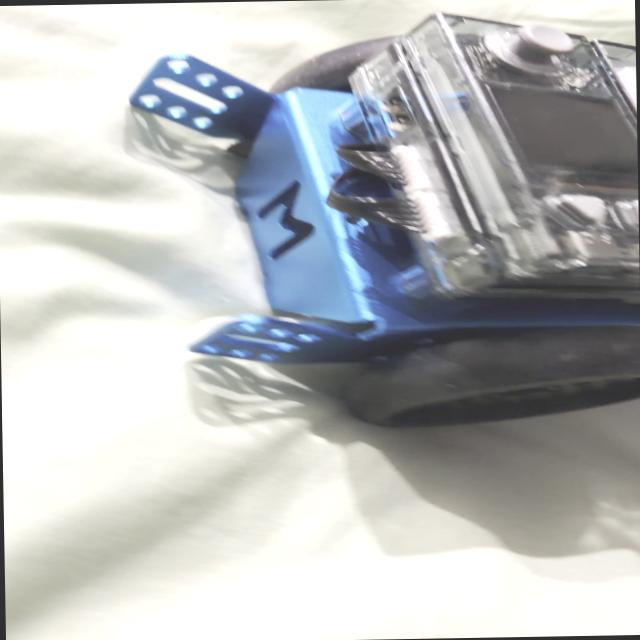mbot-detection: (122, 0, 640, 446)
